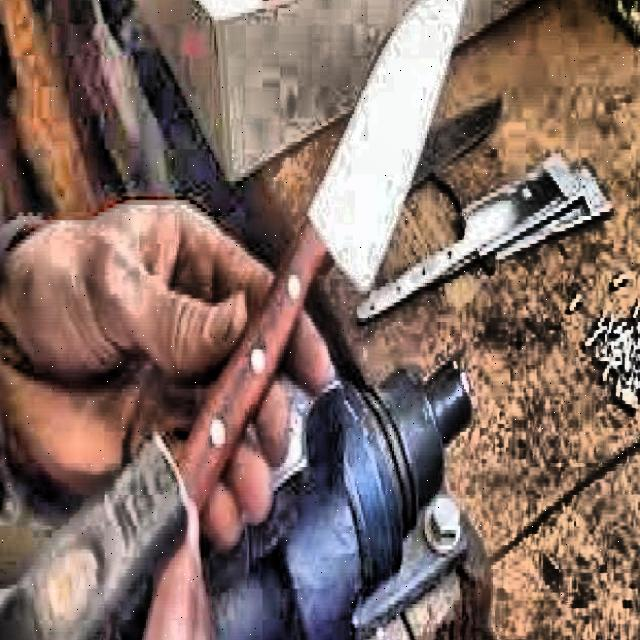knife: (169, 0, 467, 522)
